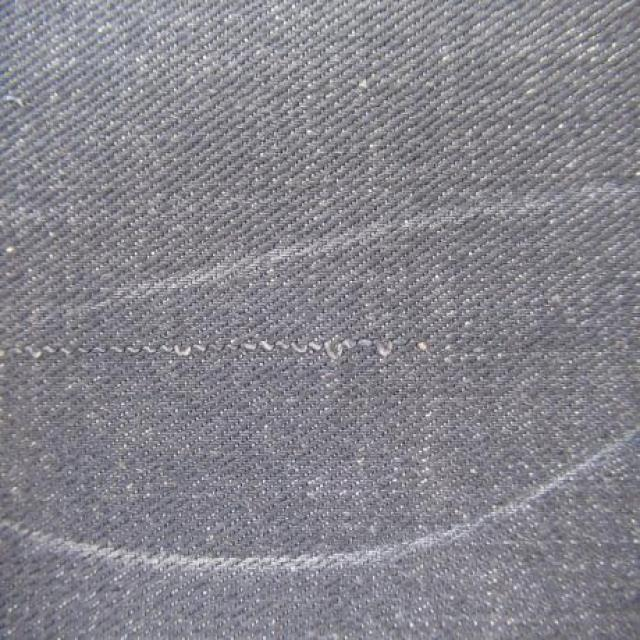stains: (0, 279, 630, 432)
